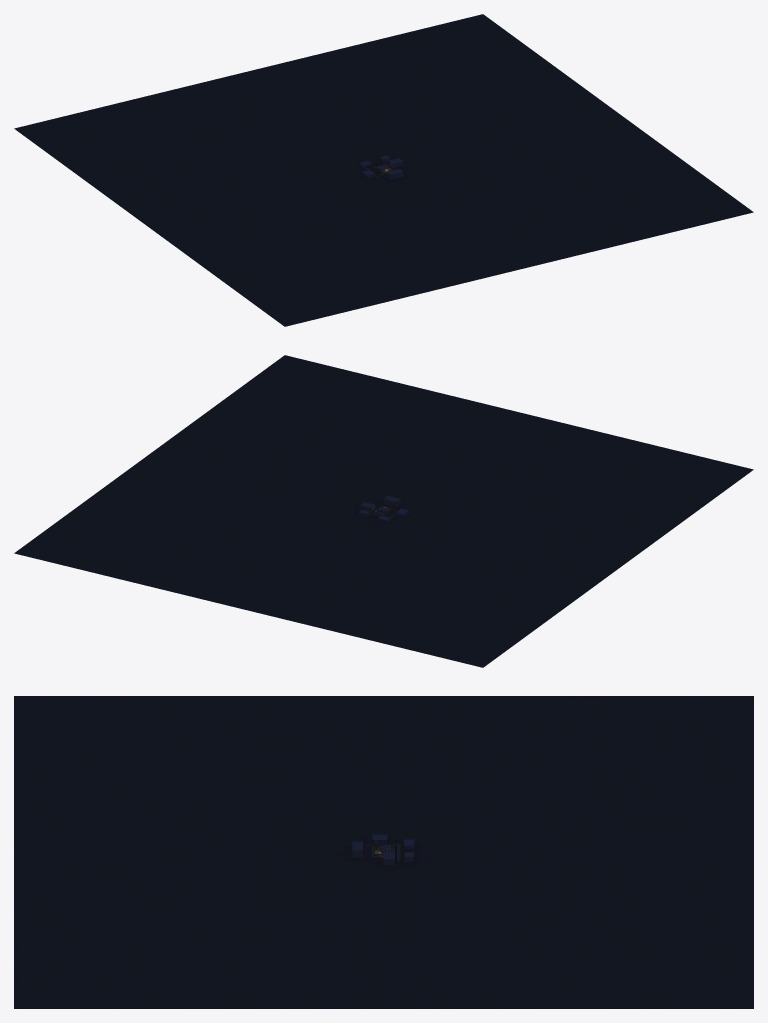
Rendered from courtyard-studio.evening.glb.
3 views of the same model, one above another, from view 1: azimuth 30°, elevation 25°; view 2: azimuth 150°, elevation 25°; view 3: azimuth 270°, elevation 25° (orthographic). The views are drawn at different scales.
Parts seen in each view (by area): view 1: Street and neighbours; view 2: Street and neighbours; view 3: Street and neighbours.
Part boxes in pixels (x1,y1,x2,y2): Street and neighbours: [14, 14, 753, 326]; Street and neighbours: [14, 355, 753, 667]; Street and neighbours: [14, 696, 753, 1008].
Size of the model in its own units: 700 by 7.59 by 700.
12 materials, 9 textured.
